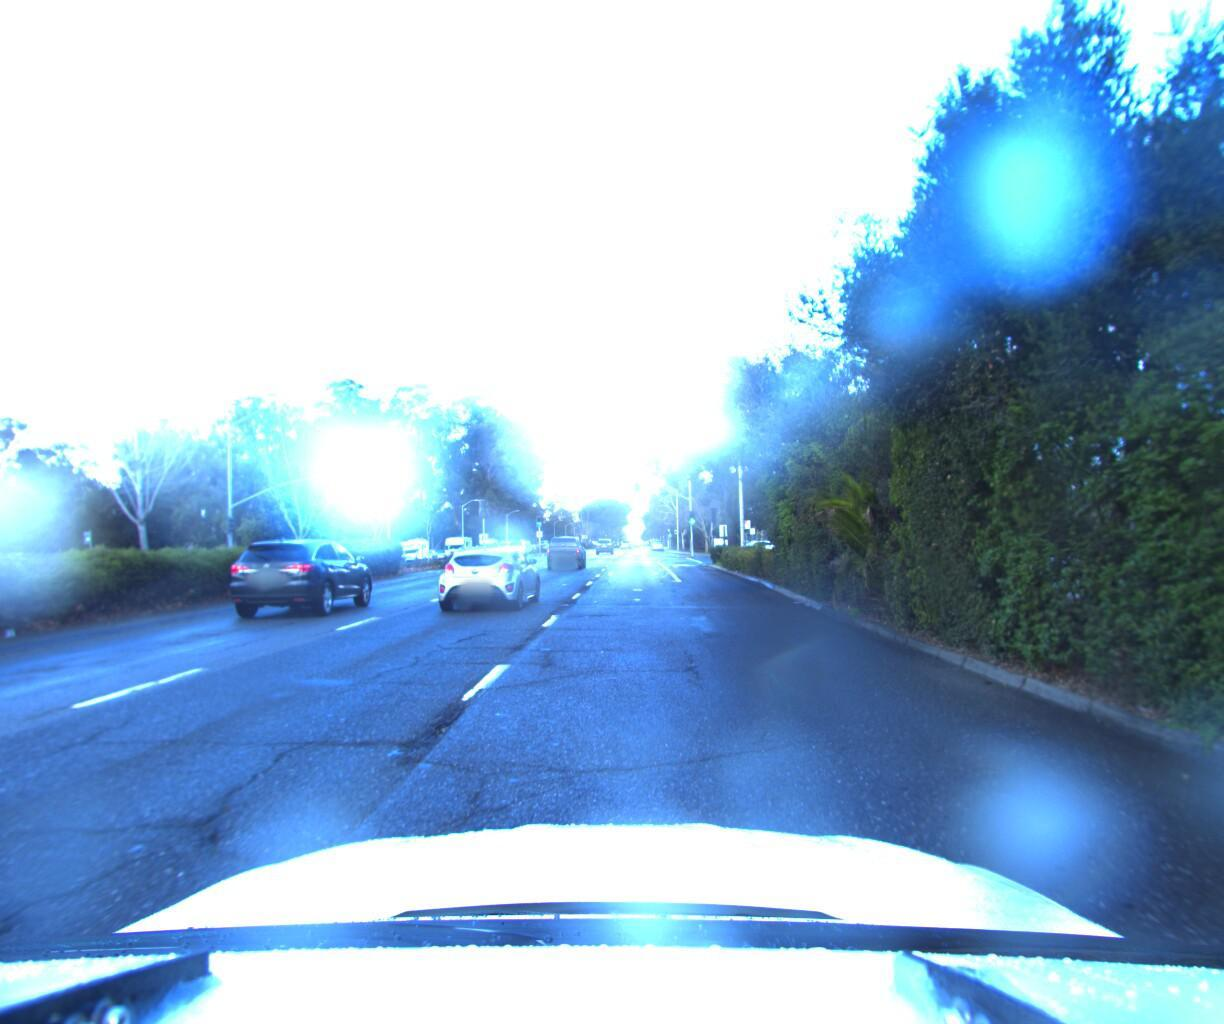car: (220, 536, 384, 623), (436, 543, 553, 613), (542, 533, 586, 569), (594, 536, 615, 553), (508, 541, 528, 558)
